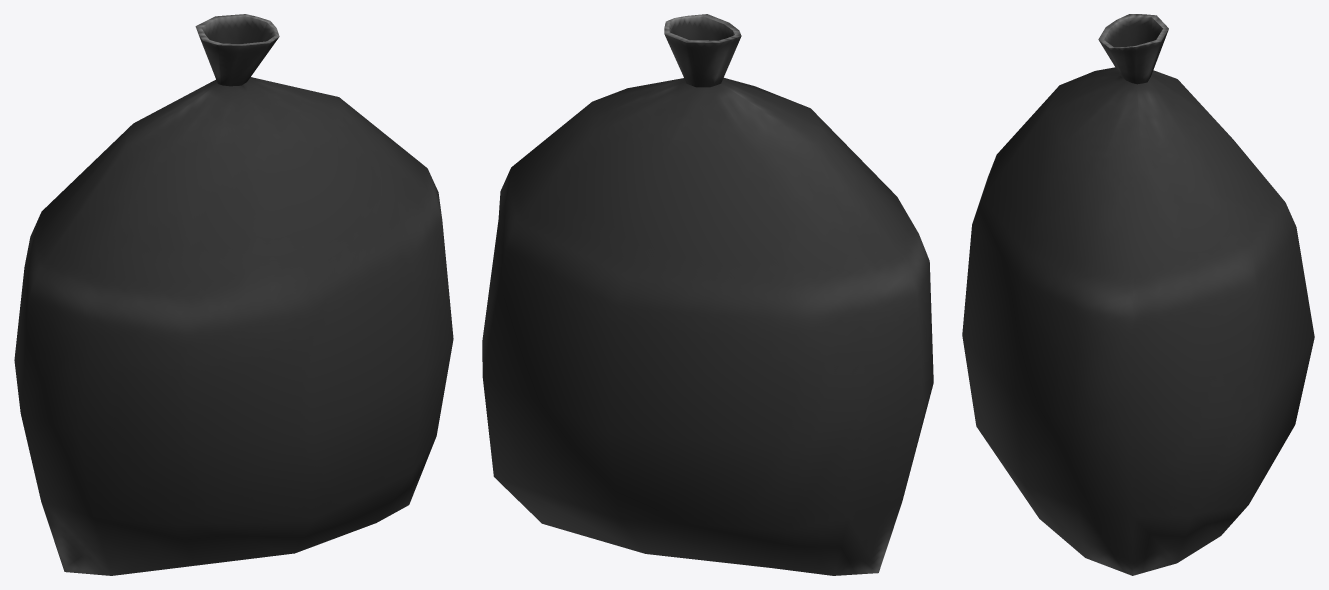
Rendered from trashbag.fbx.
3 views of the same model, side by side, from view 1: azimuth 30°, elevation 25°; view 2: azimuth 150°, elevation 25°; view 3: azimuth 270°, elevation 25° (orthographic). The views are drawn at different scales.
Parts seen in each view (by area): view 1: Cube; view 2: Cube; view 3: Cube.
Part boxes in pixels (x1,y1,x2,y2): Cube: (14, 14, 453, 575); Cube: (482, 14, 933, 575); Cube: (962, 14, 1314, 575).
Bounding box in the file's own units: 264 × 297 × 201.
